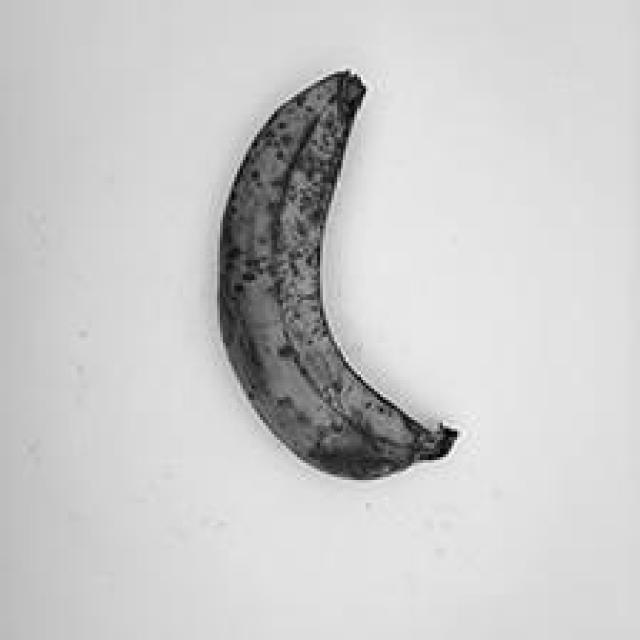Overripe: (154, 52, 486, 479)
